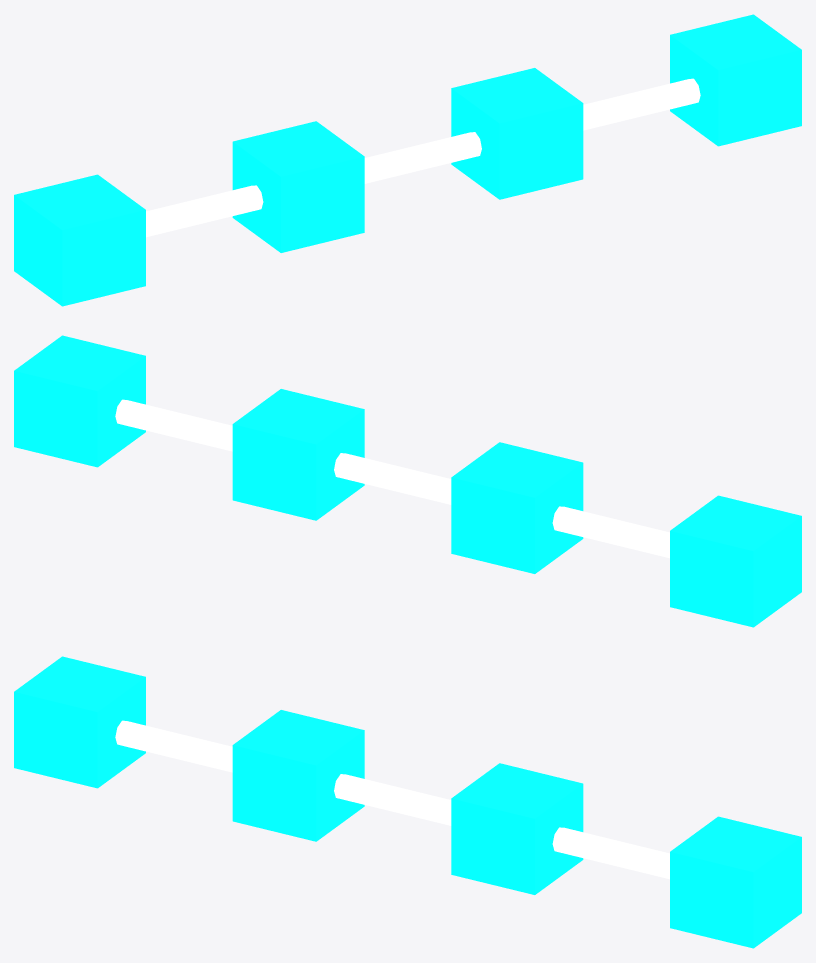
File: arc_beam.glb
The picture shows the model from 3 angles, top to bottom: view 1: azimuth 30°, elevation 25°; view 2: azimuth 150°, elevation 25°; view 3: azimuth 330°, elevation 25°; orthographic projection.
Visible parts, largest first — view 1: ArcBeamPrismLink0, ArcBeamPrismLink2, ArcBeamPrismLink1, ArcBeamPrismLink3, ArcBeamWhiteSegment2, ArcBeamWhiteSegment3, ArcBeamWhiteSegment1; view 2: ArcBeamPrismLink0, ArcBeamPrismLink2, ArcBeamPrismLink1, ArcBeamPrismLink3, ArcBeamWhiteSegment2, ArcBeamWhiteSegment3, ArcBeamWhiteSegment1; view 3: ArcBeamPrismLink3, ArcBeamPrismLink1, ArcBeamPrismLink2, ArcBeamPrismLink0, ArcBeamWhiteSegment2, ArcBeamWhiteSegment1, ArcBeamWhiteSegment3.
Boxes of the visible parts, box(x1,y1,x2,y2) form: ArcBeamPrismLink0: box(14, 174, 145, 306); ArcBeamPrismLink2: box(451, 68, 583, 199); ArcBeamPrismLink1: box(232, 121, 364, 252); ArcBeamPrismLink3: box(670, 14, 801, 146); ArcBeamWhiteSegment2: box(364, 132, 481, 183); ArcBeamWhiteSegment3: box(583, 78, 700, 130); ArcBeamWhiteSegment1: box(146, 185, 263, 237); ArcBeamPrismLink0: box(670, 495, 801, 627); ArcBeamPrismLink2: box(232, 389, 364, 520); ArcBeamPrismLink1: box(451, 442, 583, 573); ArcBeamPrismLink3: box(14, 335, 145, 467); ArcBeamWhiteSegment2: box(334, 453, 451, 504); ArcBeamWhiteSegment3: box(115, 399, 232, 451); ArcBeamWhiteSegment1: box(552, 506, 669, 558); ArcBeamPrismLink3: box(670, 816, 801, 948); ArcBeamPrismLink1: box(232, 710, 364, 841); ArcBeamPrismLink2: box(451, 763, 583, 894); ArcBeamPrismLink0: box(14, 656, 145, 788); ArcBeamWhiteSegment2: box(334, 774, 451, 825); ArcBeamWhiteSegment1: box(115, 720, 232, 772); ArcBeamWhiteSegment3: box(552, 827, 669, 879).
Size of the model in its own units: 1.72 by 0.1696 by 0.1949.
